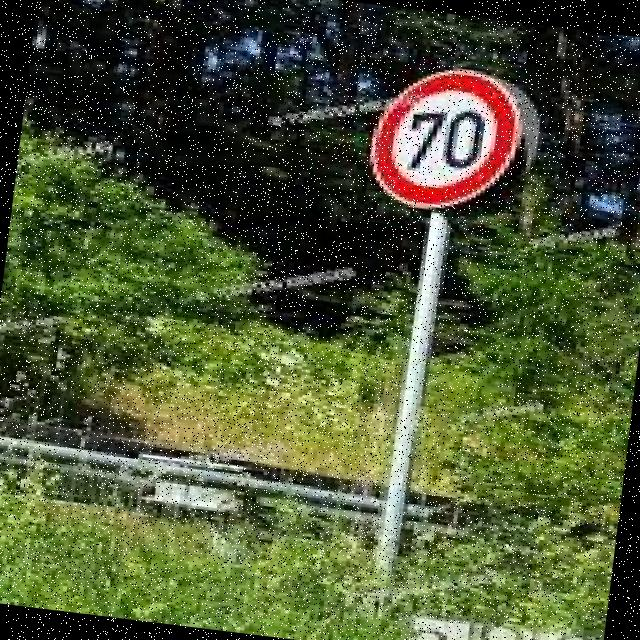speed_limit_70: (352, 52, 554, 226)
